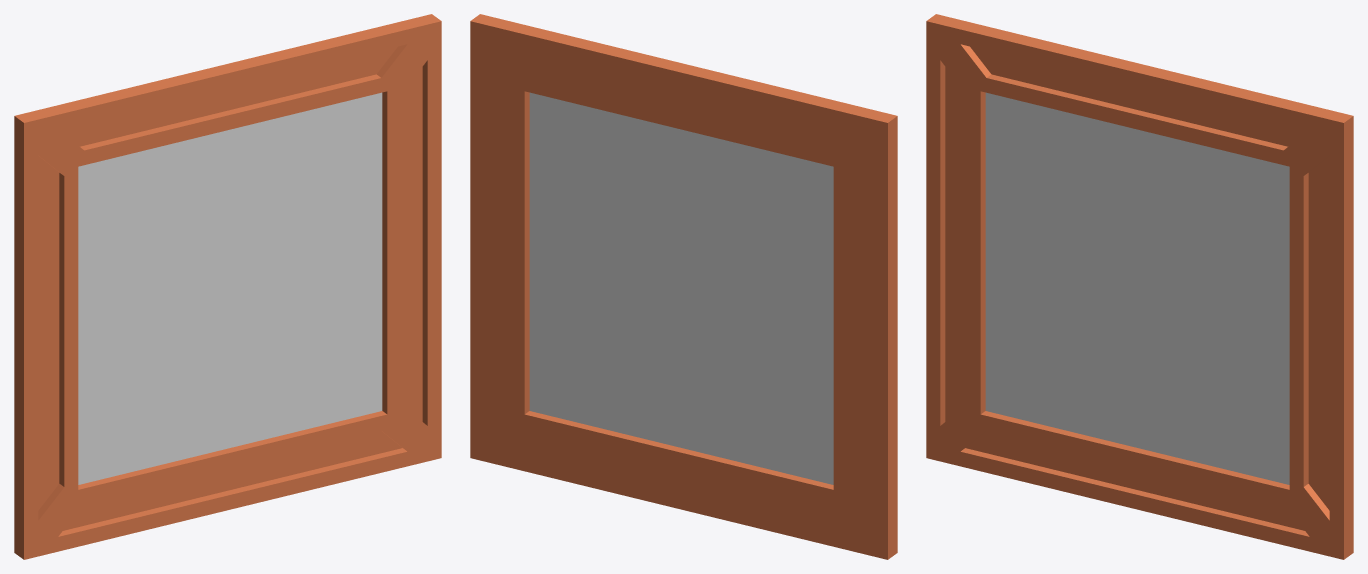
The model's file is Fenetre02.fbx.
3 views of the same model, side by side, from view 1: azimuth 30°, elevation 25°; view 2: azimuth 150°, elevation 25°; view 3: azimuth 330°, elevation 25° (orthographic).
Parts seen in each view (by area): view 1: Fenetre02; view 2: Fenetre02; view 3: Fenetre02.
Part boxes in pixels (x1,y1,x2,y2): Fenetre02: (14,14,441,559); Fenetre02: (470,14,897,559); Fenetre02: (926,14,1353,559).
Bounding box in the file's own units: 3.24 × 3.24 × 0.1318.
